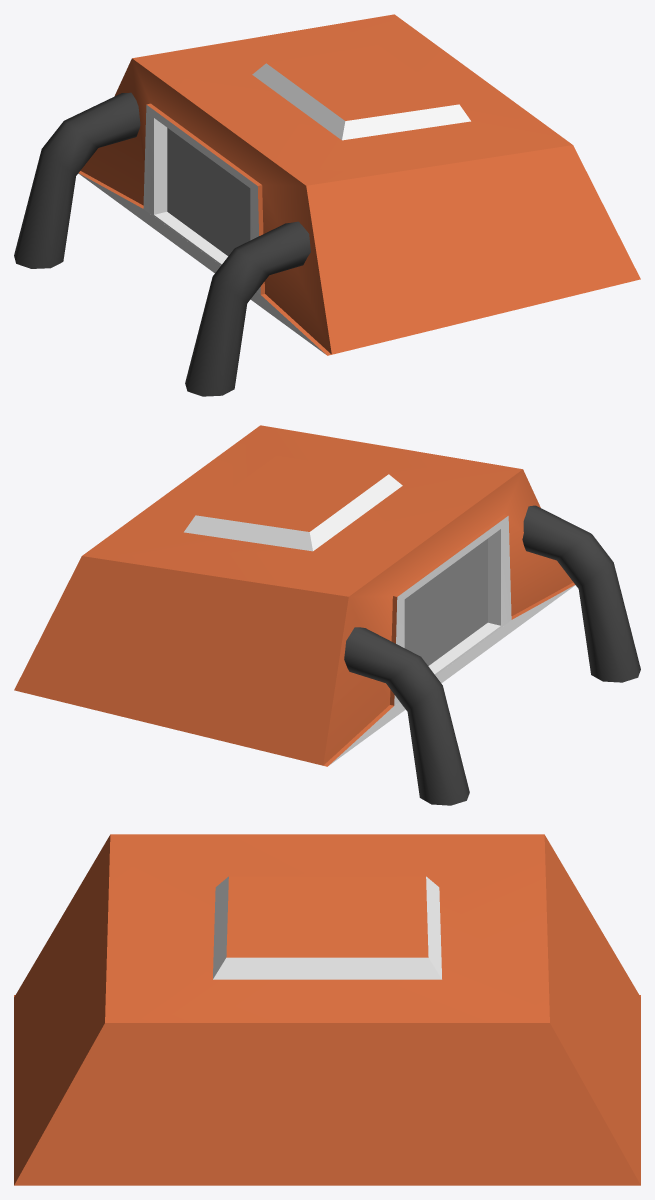
File: Machine_7.fbx
3 renders of one model, top to bottom at view 1: azimuth 30°, elevation 25°; view 2: azimuth 150°, elevation 25°; view 3: azimuth 270°, elevation 25°, orthographic. The views are drawn at different scales.
Parts seen in each view (by area): view 1: Machine_7; view 2: Machine_7; view 3: Machine_7.
Boxes of the visible parts, <box> form: Machine_7: <box>14,14,640,396</box>; Machine_7: <box>14,425,640,805</box>; Machine_7: <box>14,834,640,1185</box>.
Size of the model in its own units: 1005 by 436 by 1061.
